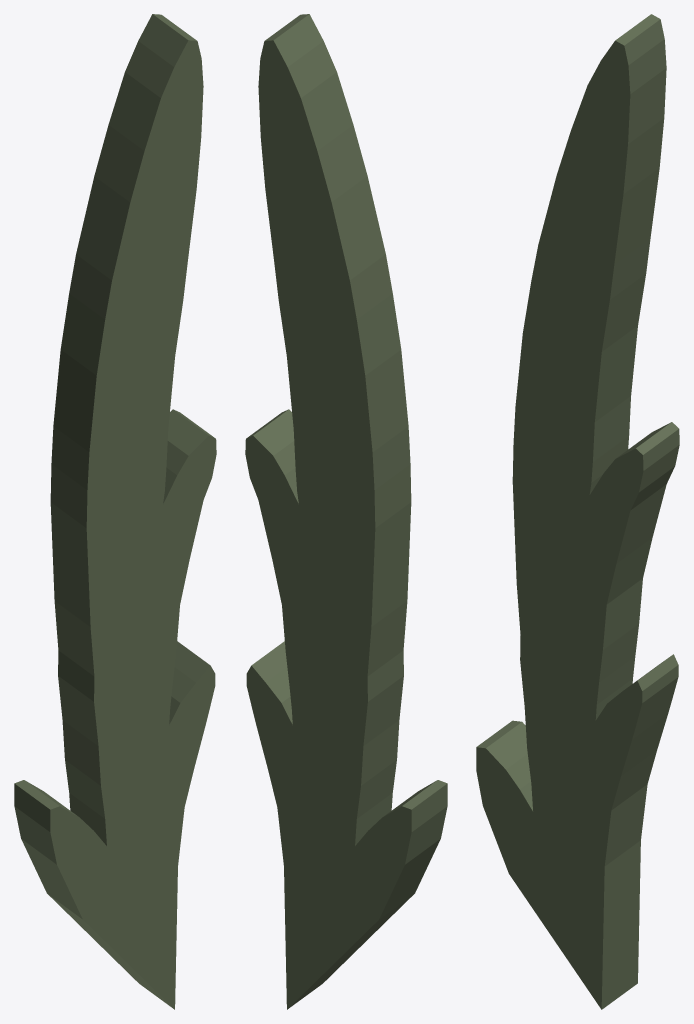
The model's file is Leaf_1.fbx.
3 renders of one model, left to right at view 1: azimuth 30°, elevation 25°; view 2: azimuth 150°, elevation 25°; view 3: azimuth 330°, elevation 25°, orthographic.
Parts seen in each view (by area): view 1: pPlane30; view 2: pPlane30; view 3: pPlane30.
Boxes of the visible parts, box(x1,y1,x2,y2) form: pPlane30: box(14, 14, 216, 1009); pPlane30: box(245, 14, 447, 1009); pPlane30: box(476, 14, 679, 1009).
Size of the model in its own units: 0.0667 by 0.3707 by 0.0251.
